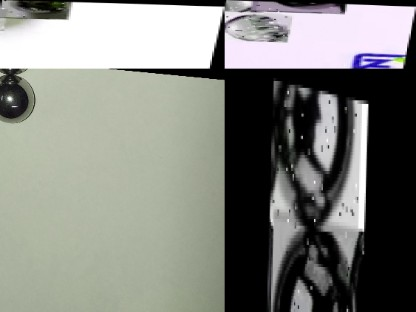ironball: (269, 77, 360, 232), (270, 206, 365, 312), (224, 11, 293, 42), (0, 74, 36, 123), (0, 0, 70, 19), (249, 0, 345, 13), (270, 77, 278, 171), (224, 0, 256, 16)
